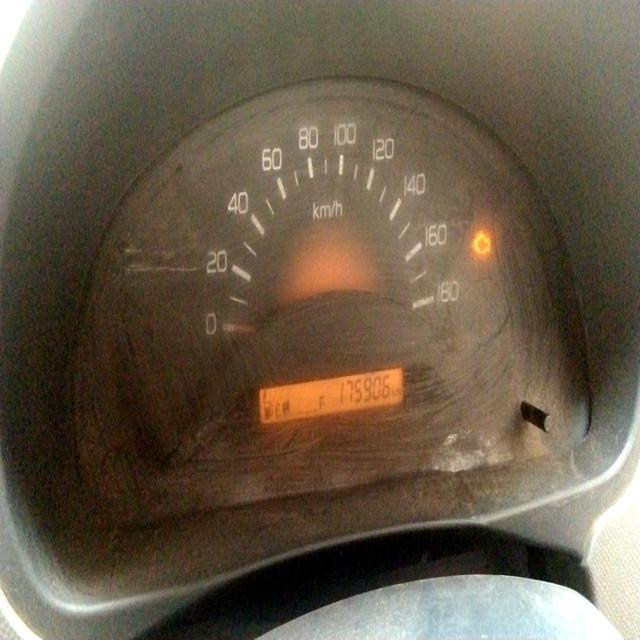odometer: (338, 370, 392, 408)
